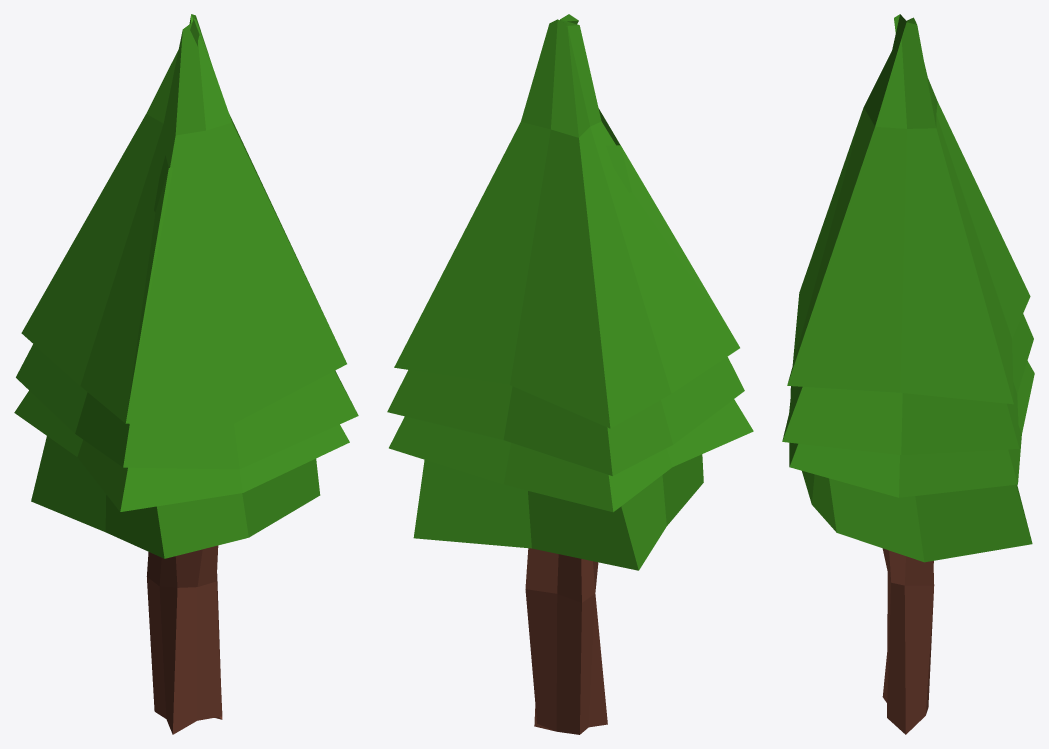
File: Tree_large_01.fbx
3 renders of one model, left to right at view 1: azimuth 30°, elevation 25°; view 2: azimuth 150°, elevation 25°; view 3: azimuth 270°, elevation 25°, orthographic.
Parts seen in each view (by area): view 1: Tree_large_01; view 2: Tree_large_01; view 3: Tree_large_01.
Boxes of the visible parts, bbox=[...] form: Tree_large_01: bbox=[14, 14, 358, 734]; Tree_large_01: bbox=[387, 14, 753, 734]; Tree_large_01: bbox=[782, 14, 1034, 734].
Bounding box in the file's own units: 4.54 × 12.41 × 4.03.
